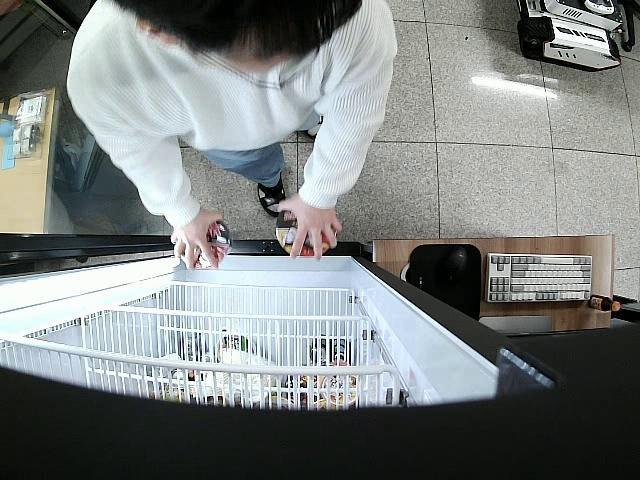07_buldak_L: (177, 216, 230, 270), (279, 210, 336, 258)
